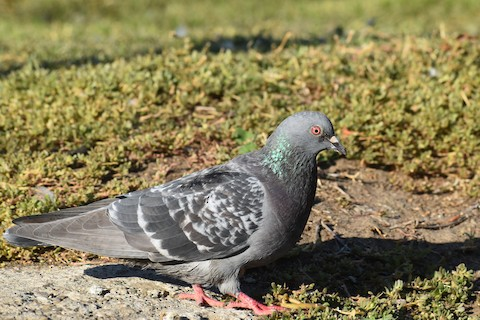pigeon: (10, 111, 349, 313)
